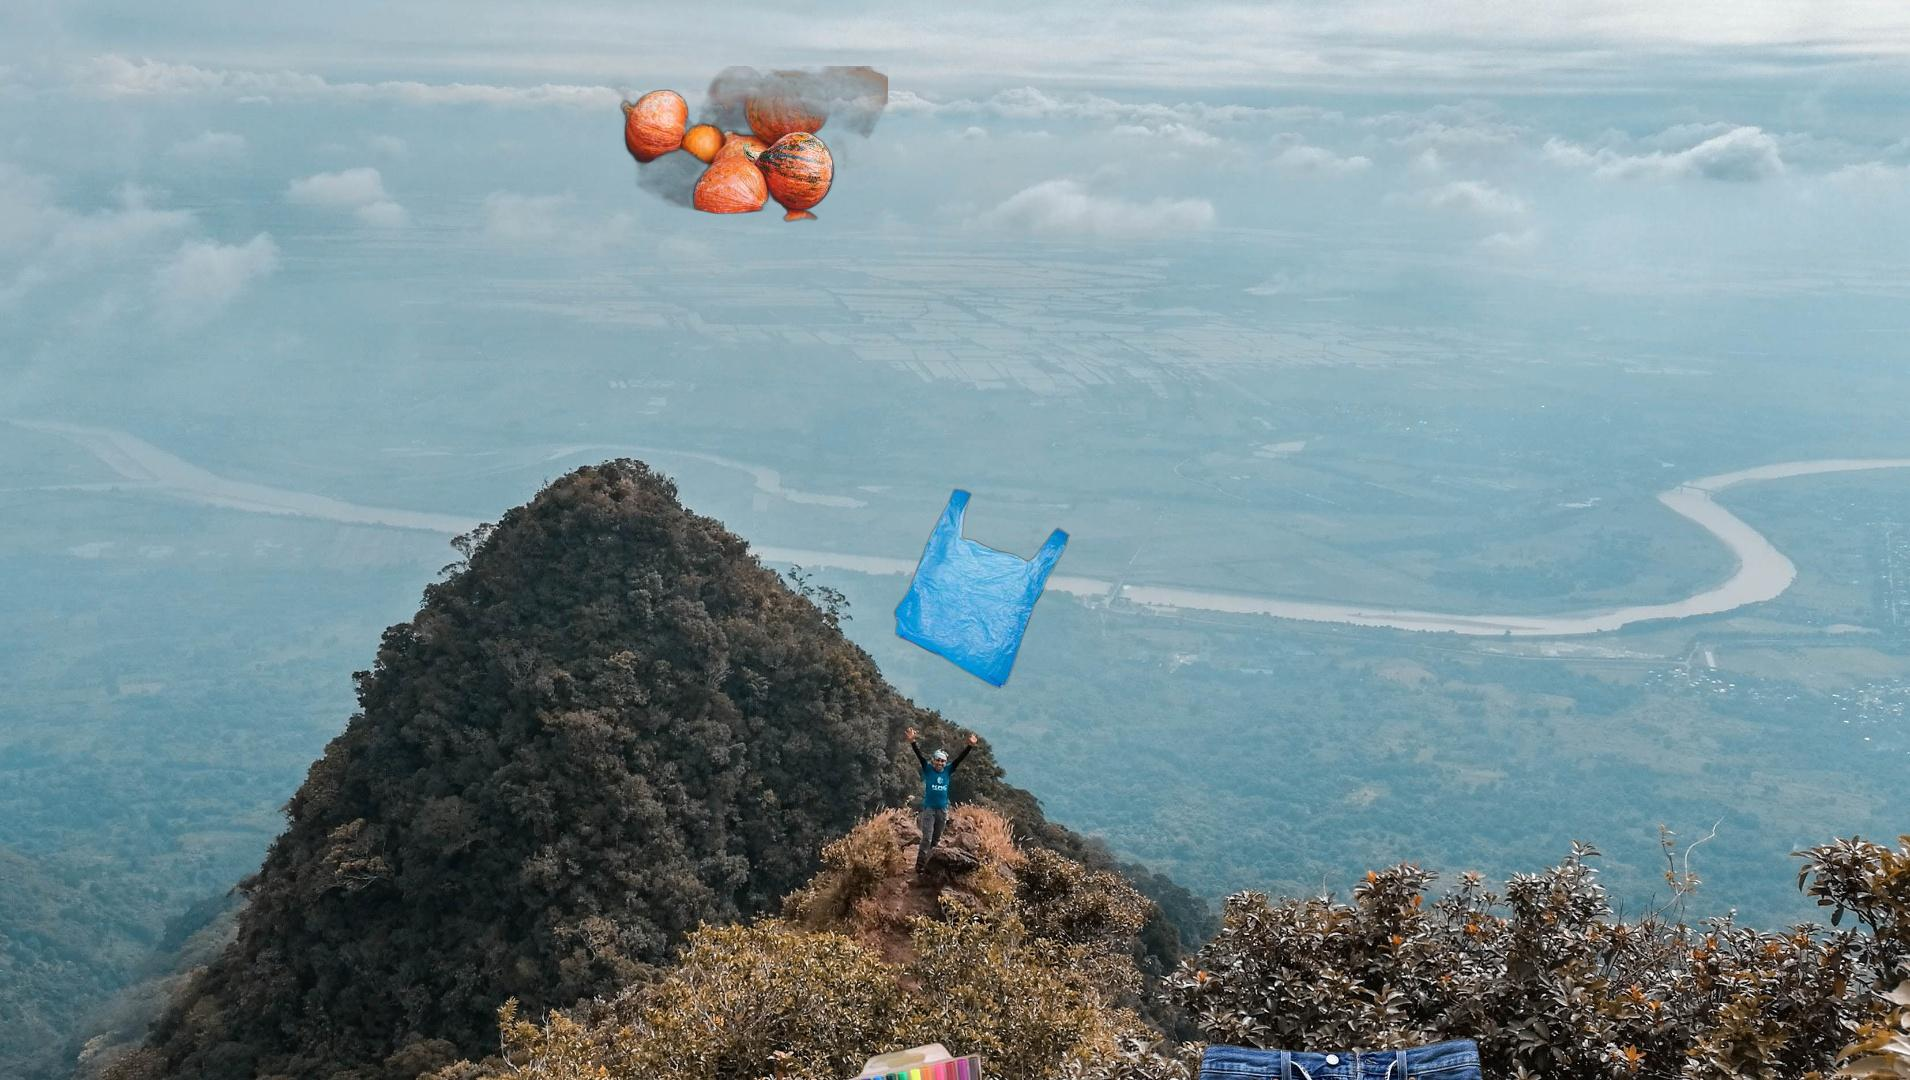biological: (588, 66, 888, 234)
clothes: (1154, 1033, 1539, 1080)
penholder: (829, 1039, 992, 1080)
plastic-bag: (892, 487, 1072, 692)
